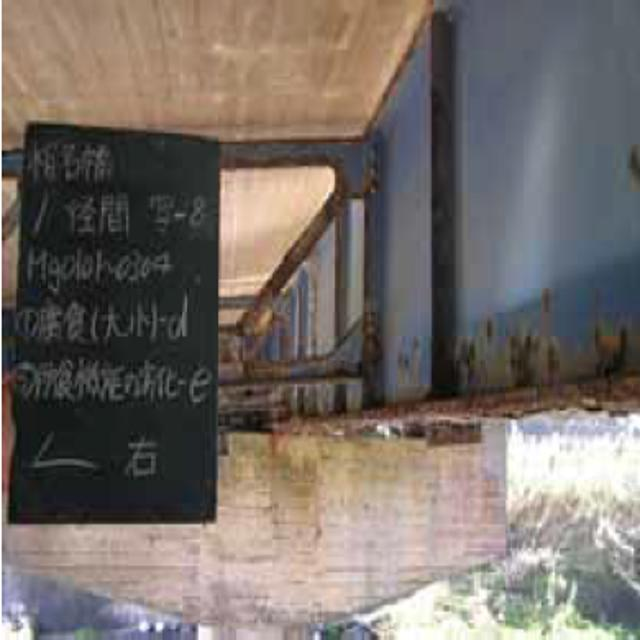corrosion: (227, 207, 407, 437), (443, 310, 631, 464)
